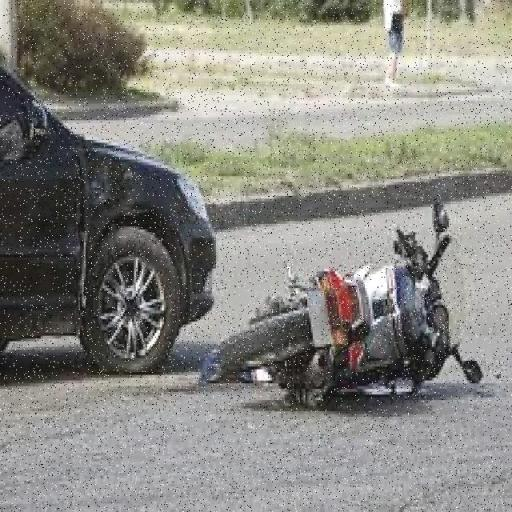小汽车: (1, 78, 208, 371)
自行车: (211, 214, 480, 412)
